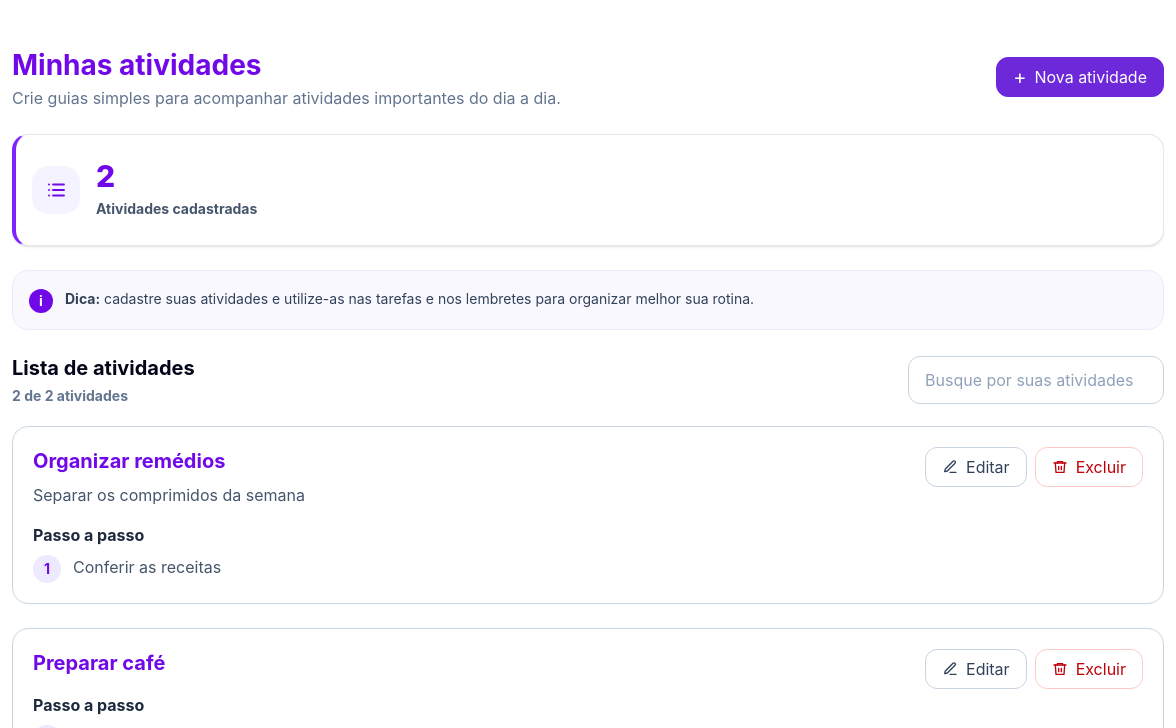
it: ActivityPage integration › abre o formulário, cria uma atividade e volta à lista
Click the button "+ Nova atividade". click: (1080, 77)
box: [996,57,1164,97]
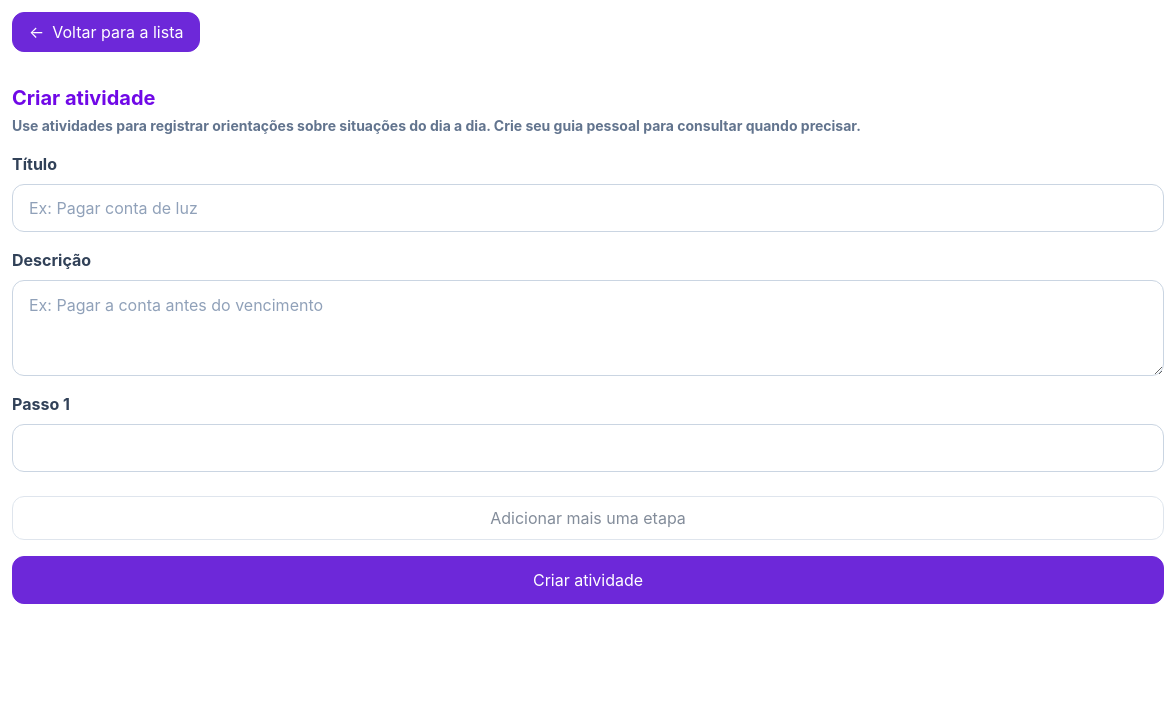
Type "Fazer uma ligação" into the field labelled "Título". click: (588, 208)
box: [12,184,1164,232]
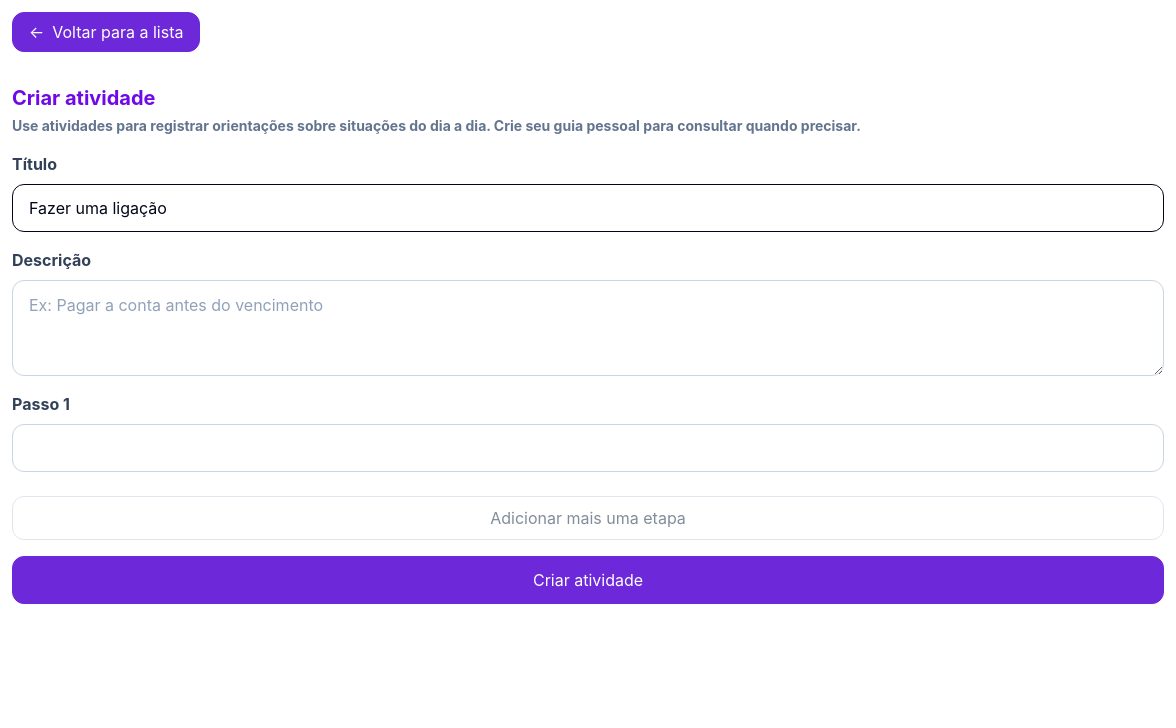
Type "Abrir os contatos" into the field labelled "Passo 1". click: (588, 448)
box: [12,424,1164,472]
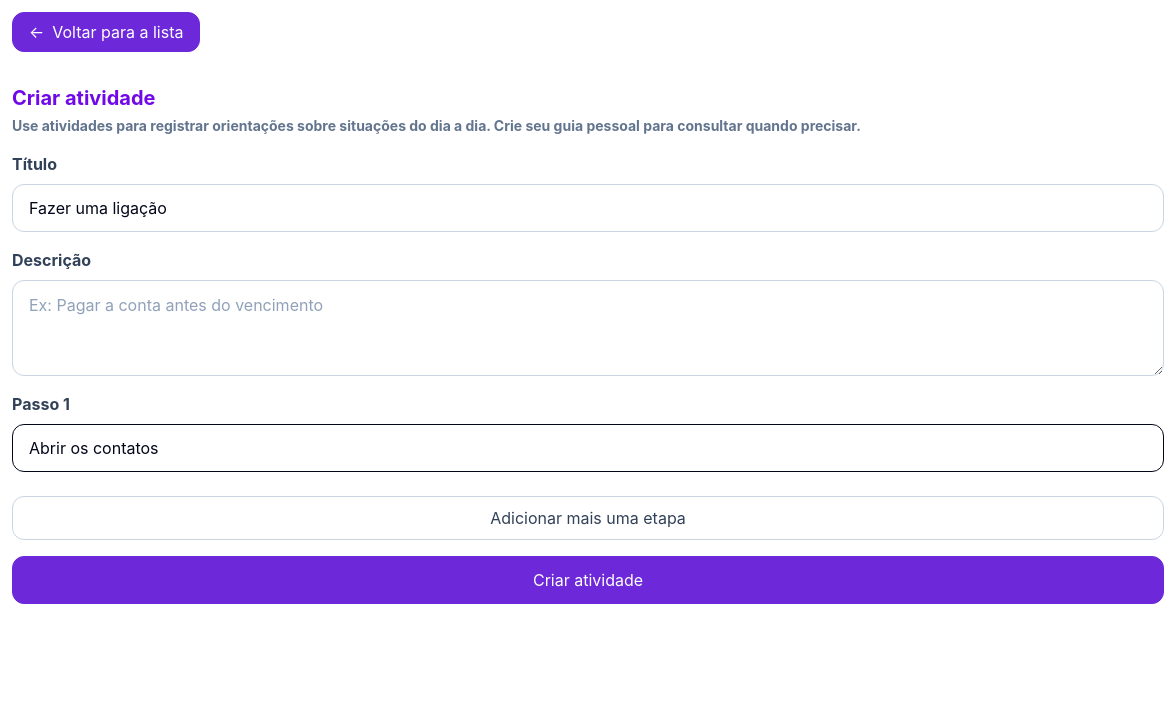
Click the button "Criar atividade". click: (588, 580)
box: [12,556,1164,604]
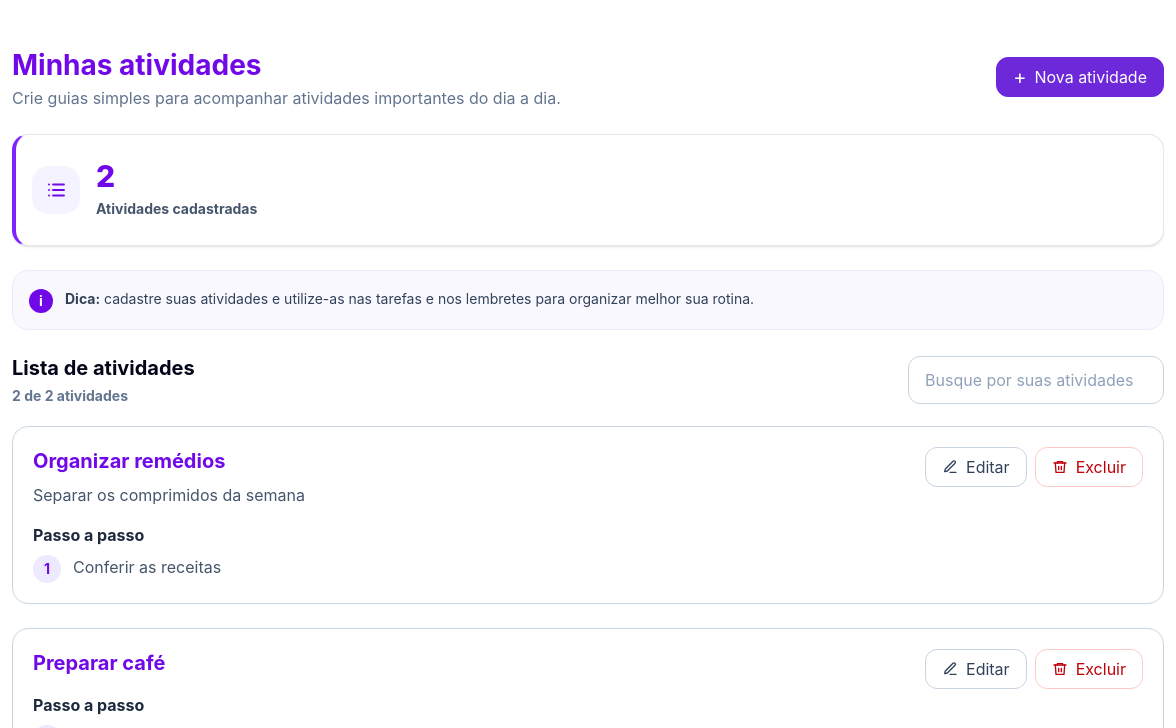
Check: the heading "Minhas atividades" is shown, box [12,48,262,82]
